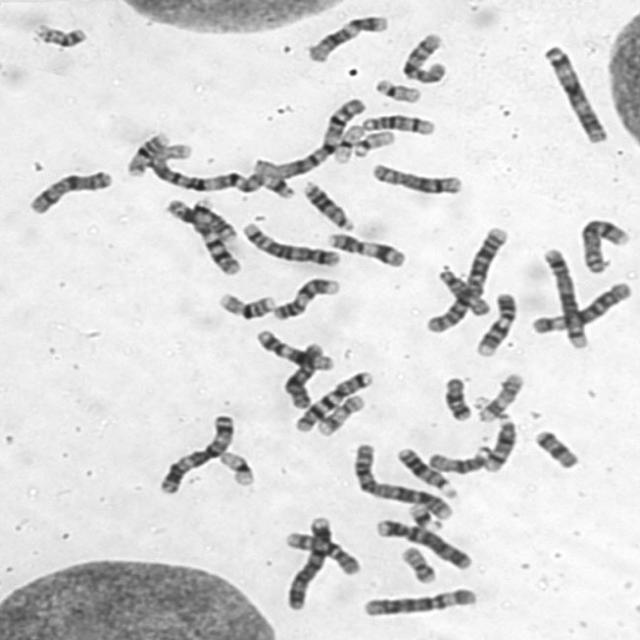A1: (249, 95, 368, 182), (146, 154, 266, 194)
A2: (420, 224, 510, 336), (348, 441, 455, 521)
A3: (538, 41, 610, 143), (155, 410, 237, 496)
B4: (372, 516, 474, 572), (281, 511, 334, 611)
B5: (538, 244, 590, 350), (238, 219, 342, 268)
C10: (281, 528, 362, 577), (398, 30, 449, 85)
C11: (163, 196, 237, 243), (324, 230, 408, 268)
C12: (303, 11, 391, 62), (253, 326, 336, 372)
C6: (526, 278, 632, 335), (357, 583, 479, 619)
C7: (290, 368, 374, 434), (188, 196, 243, 276)
C8: (368, 159, 464, 196), (577, 214, 631, 276)
C9: (472, 289, 520, 359), (270, 274, 341, 321)
D13: (394, 443, 458, 499), (299, 177, 355, 232)
D14: (480, 413, 518, 473), (359, 111, 436, 136)
D15: (434, 265, 493, 316), (424, 443, 490, 475)
E16: (122, 128, 172, 178), (214, 288, 276, 320)
E17: (474, 370, 526, 423), (313, 392, 367, 438)
E18: (532, 426, 580, 470), (439, 374, 473, 422)
F19: (329, 120, 366, 166), (216, 447, 256, 488)
F20: (32, 17, 88, 48), (398, 542, 438, 584)
G21: (405, 502, 445, 532), (261, 171, 298, 200)
G22: (350, 128, 397, 158), (372, 76, 422, 104)
X: (24, 167, 114, 217), (280, 340, 326, 410)
